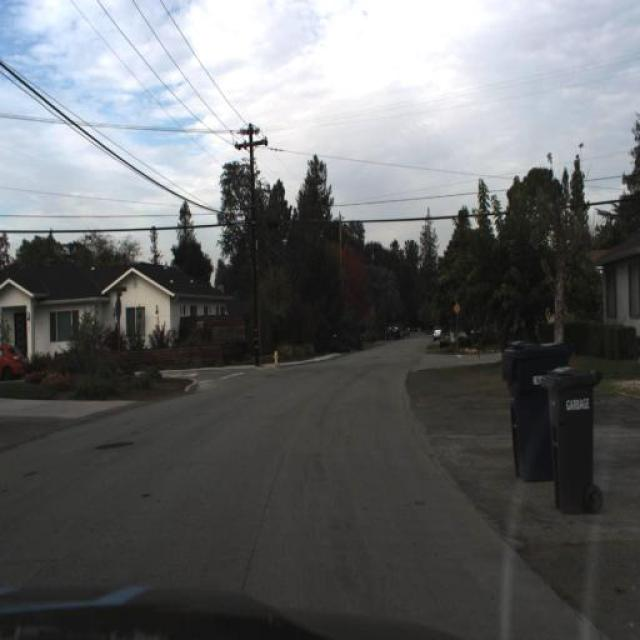car: (440, 322, 480, 348), (1, 343, 27, 382), (432, 326, 443, 342)
